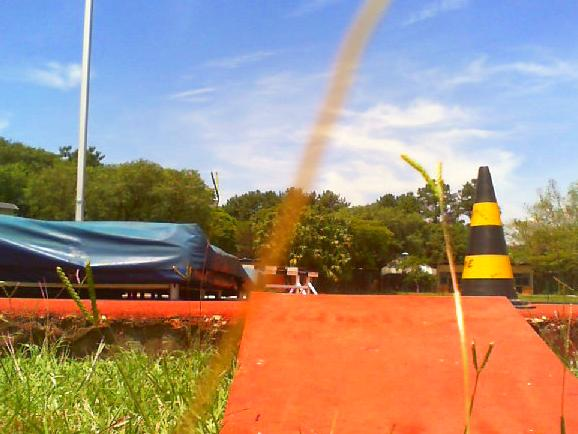0 cone: (459, 167, 538, 310)
